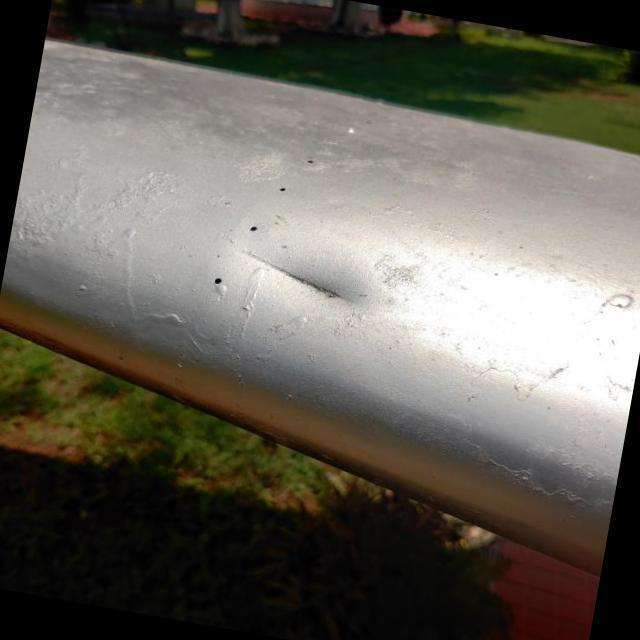Dent: (224, 196, 384, 339)
